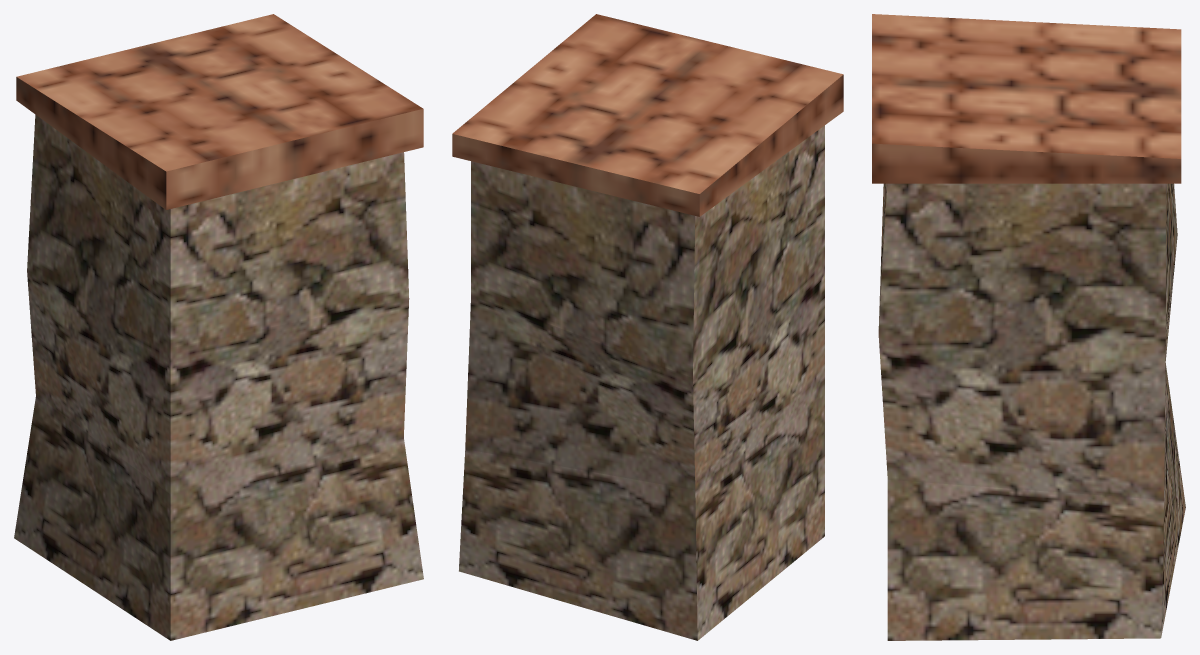
The model's file is Urban_DrystoneColumnTiles_Model.fbx.
3 renders of one model, left to right at view 1: azimuth 30°, elevation 25°; view 2: azimuth 150°, elevation 25°; view 3: azimuth 270°, elevation 25°, orthographic. The views are drawn at different scales.
Visible parts, largest first — view 1: Urban_DrystoneColumnTiles_Mesh; view 2: Urban_DrystoneColumnTiles_Mesh; view 3: Urban_DrystoneColumnTiles_Mesh.
Part boxes in pixels (x1,y1,x2,y2): Urban_DrystoneColumnTiles_Mesh: (14, 14, 423, 640); Urban_DrystoneColumnTiles_Mesh: (452, 14, 843, 640); Urban_DrystoneColumnTiles_Mesh: (872, 14, 1185, 640).
Size of the model in its own units: 0.5691 by 0.9791 by 0.5646.
